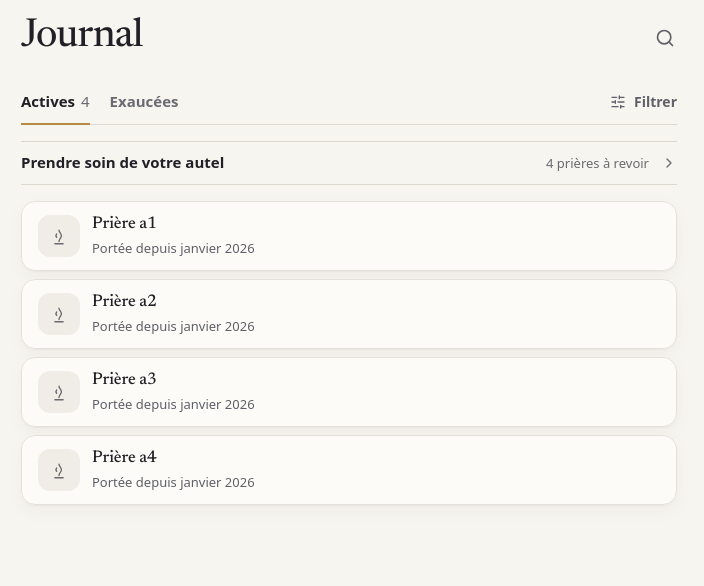
Test: Journal tools — an active filter is obvious and undoable › says filters are on, counts the results, and clears them in one tap
The image size is (704, 586).
Click the button named "Rechercher...": (665, 38) [643,16,687,60]
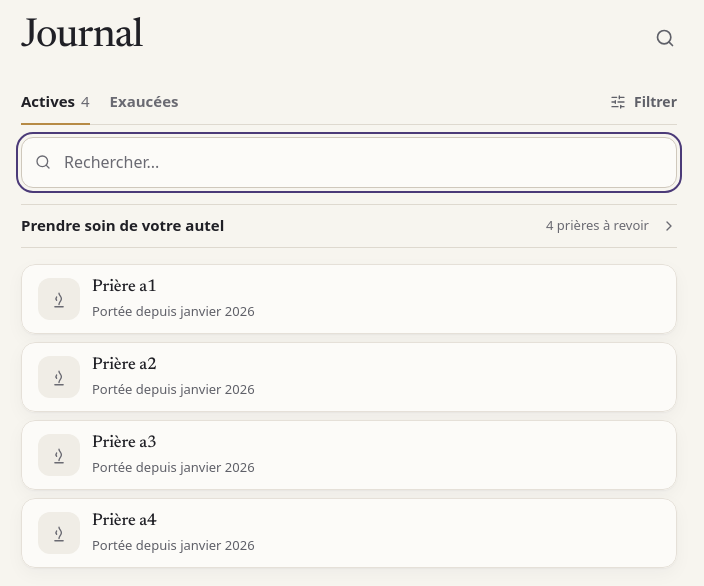
In the field with placeholder "Rechercher...": (349, 162) [21,137,677,188], type "a1"
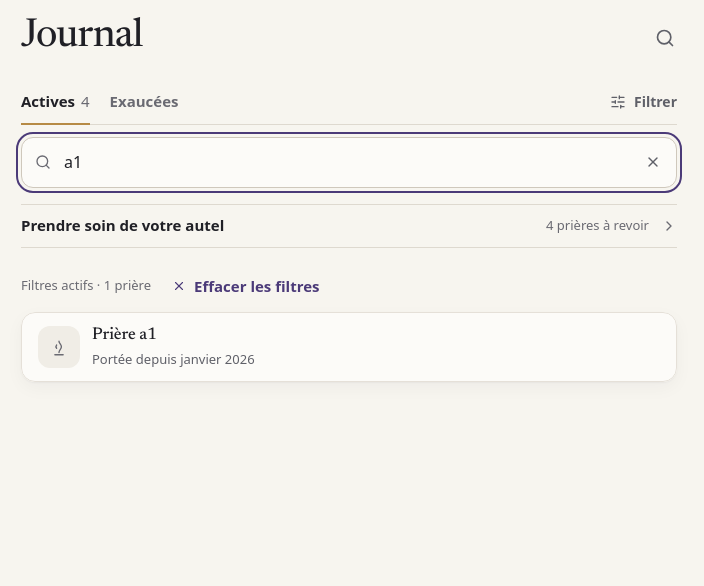
Result: the text "Filtres actifs" is shown at [21,276,94,294]
Click the button "Effacer les filtres": (246, 286) [159,264,332,308]
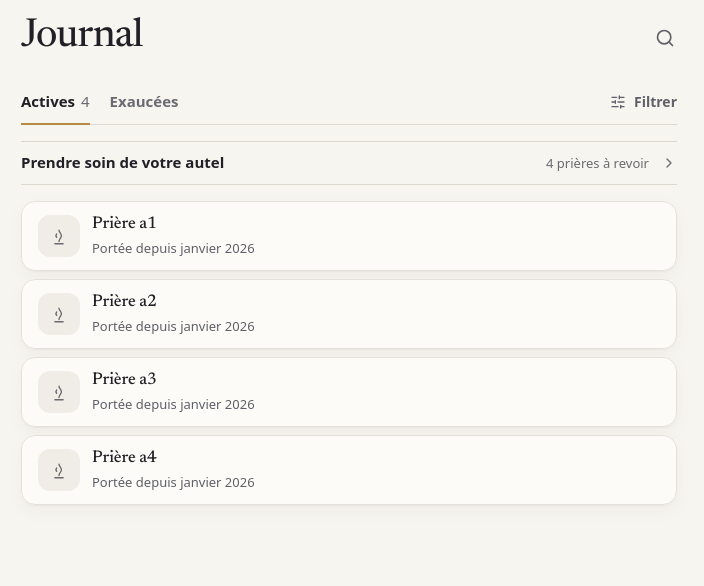
Result: the text "Prière a2" is shown at [92,294,157,311]
Result: the message "Filtres actifs·1 prière" is gone
